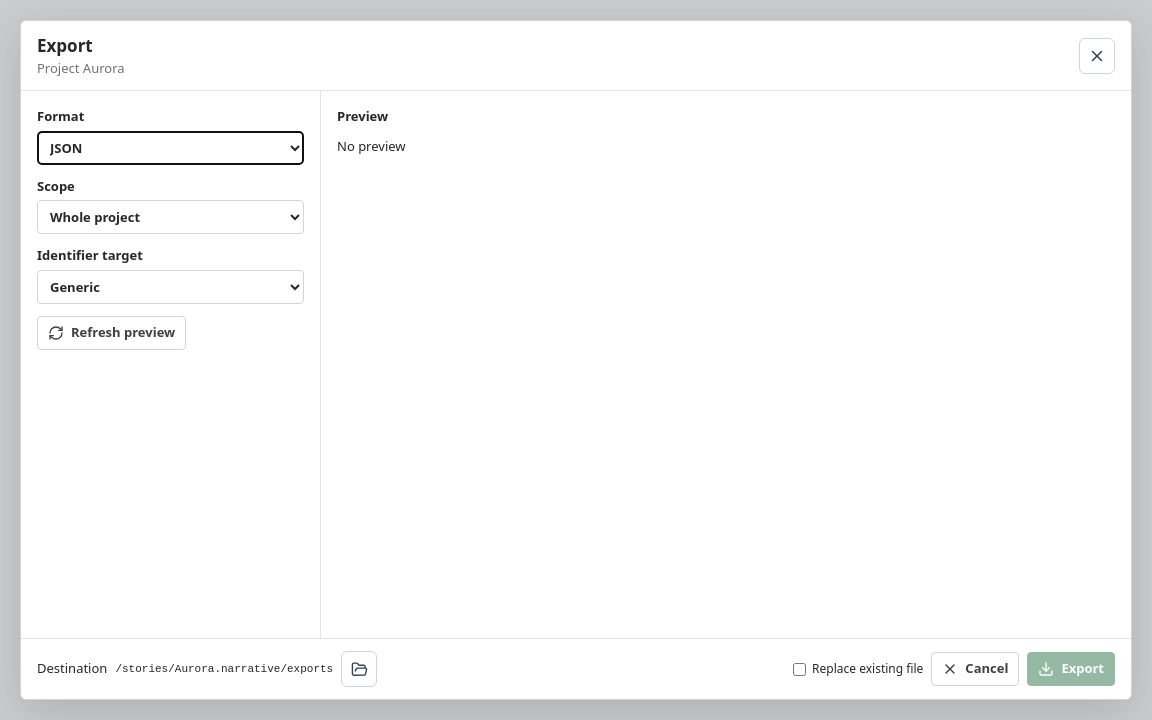
ExportWorkspace › previews and writes only through checksum-bound export APIs, then consumes the plan
This screenshot has width=1152, height=720.
Expected: the button "Export" is disabled, [1027,652,1115,686]
Click the button "Refresh preview". click: (112, 332)
box: [37,316,186,350]
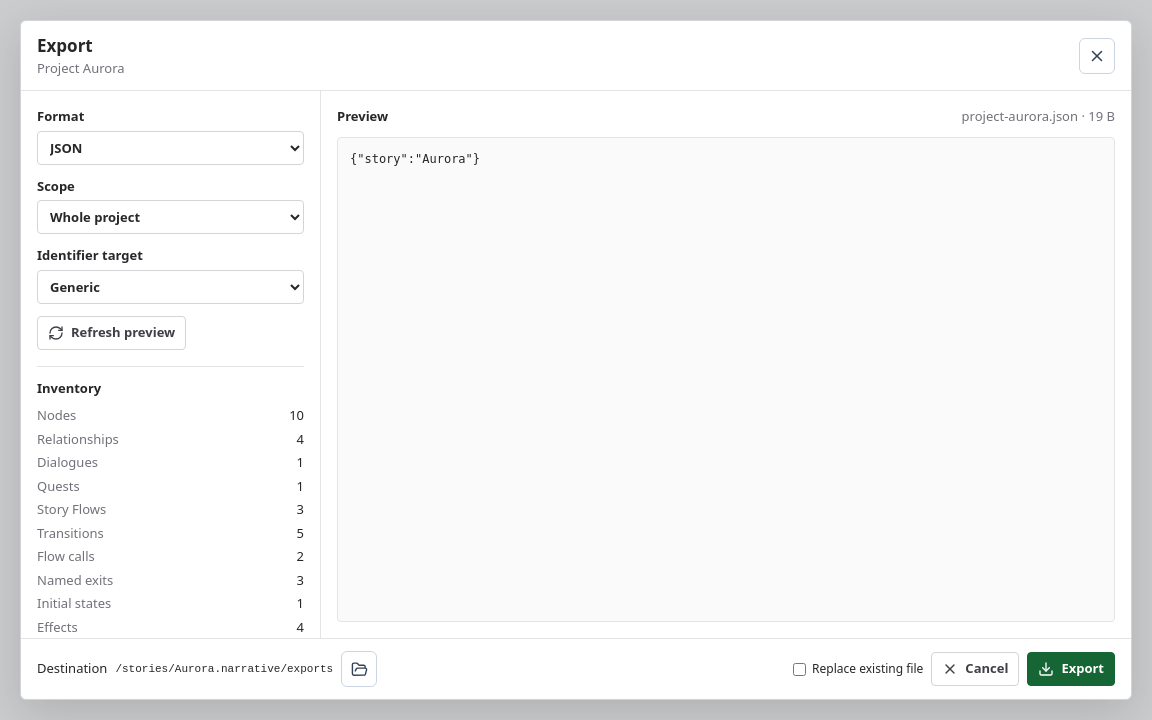
Now the element "Inventory" is shown, box [37,366,304,638]
Now the text named "Generated source" shows "\"Aurora\"", box [350,152,480,166]
Click the button "Export". click: (1071, 669)
box: [1027,652,1115,686]
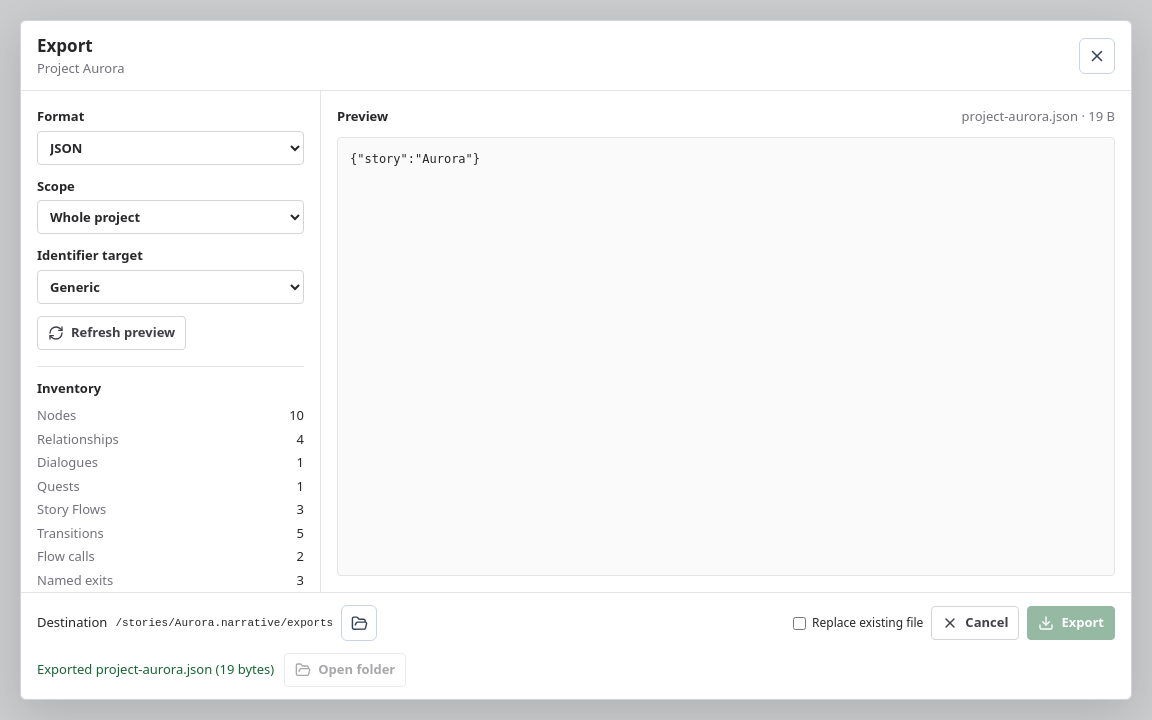
Now the text "Exported project-aurora.json (19 bytes)" is shown, box [37,660,274,680]
Now the button "Export" is disabled, box [1027,606,1115,640]
